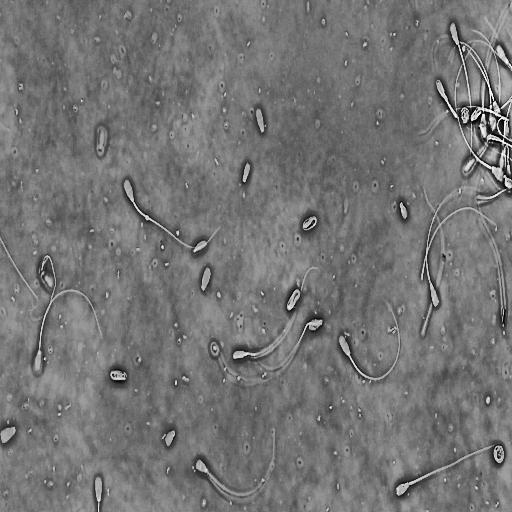coiled-tail: (434, 76, 459, 122), (287, 290, 300, 310), (302, 217, 317, 230), (111, 369, 127, 380), (290, 291, 298, 307)
dirt-particles: (491, 443, 506, 466), (459, 105, 471, 128)
distal-droplet: (145, 215, 150, 220)
folded-tail: (258, 319, 322, 370)
loose-head: (253, 104, 267, 135), (0, 423, 17, 446), (200, 263, 213, 293), (95, 126, 108, 155), (163, 426, 177, 448), (241, 159, 252, 186), (192, 238, 208, 254), (399, 199, 409, 221)
loose-tail: (419, 205, 500, 283), (420, 180, 447, 336), (0, 235, 40, 304)
normal: (231, 264, 320, 362), (121, 174, 221, 255), (454, 37, 506, 185), (30, 287, 105, 377), (394, 441, 502, 499), (461, 27, 502, 177), (194, 426, 277, 500), (336, 299, 402, 384), (423, 186, 462, 312), (448, 39, 498, 135), (255, 313, 326, 375), (448, 18, 473, 163), (285, 284, 302, 314), (298, 211, 320, 234), (108, 365, 128, 386)
